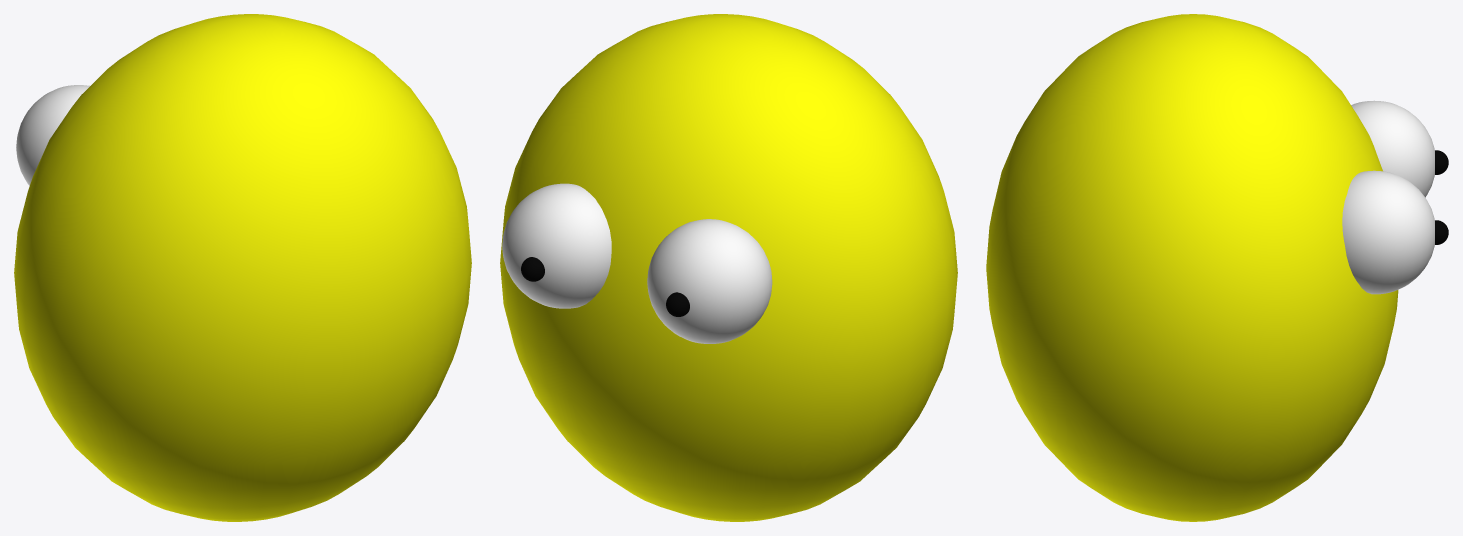
The model's file is puppet-yellow.glb.
The picture shows the model from 3 angles, left to right: view 1: azimuth 30°, elevation 25°; view 2: azimuth 150°, elevation 25°; view 3: azimuth 270°, elevation 25°; orthographic projection.
Bounding box in the file's own units: 0.9 × 1 × 0.894.
